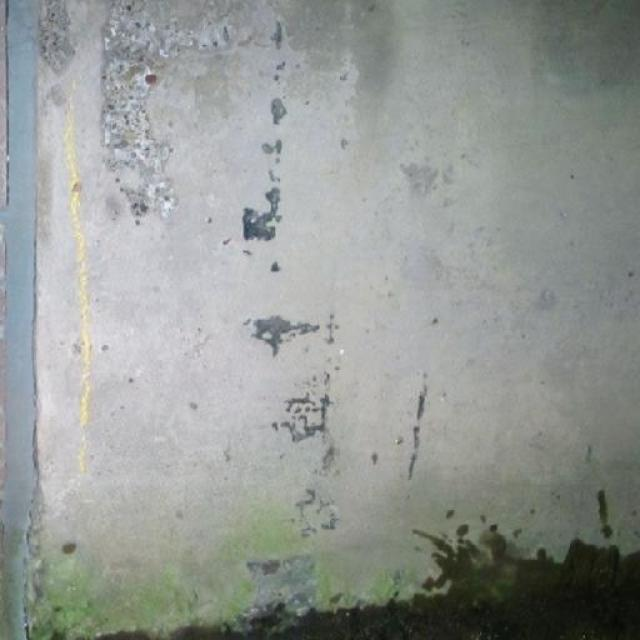D10: (102, 0, 240, 218), (252, 315, 319, 354), (40, 0, 74, 72), (242, 186, 281, 240), (271, 99, 285, 122), (262, 140, 281, 154)
